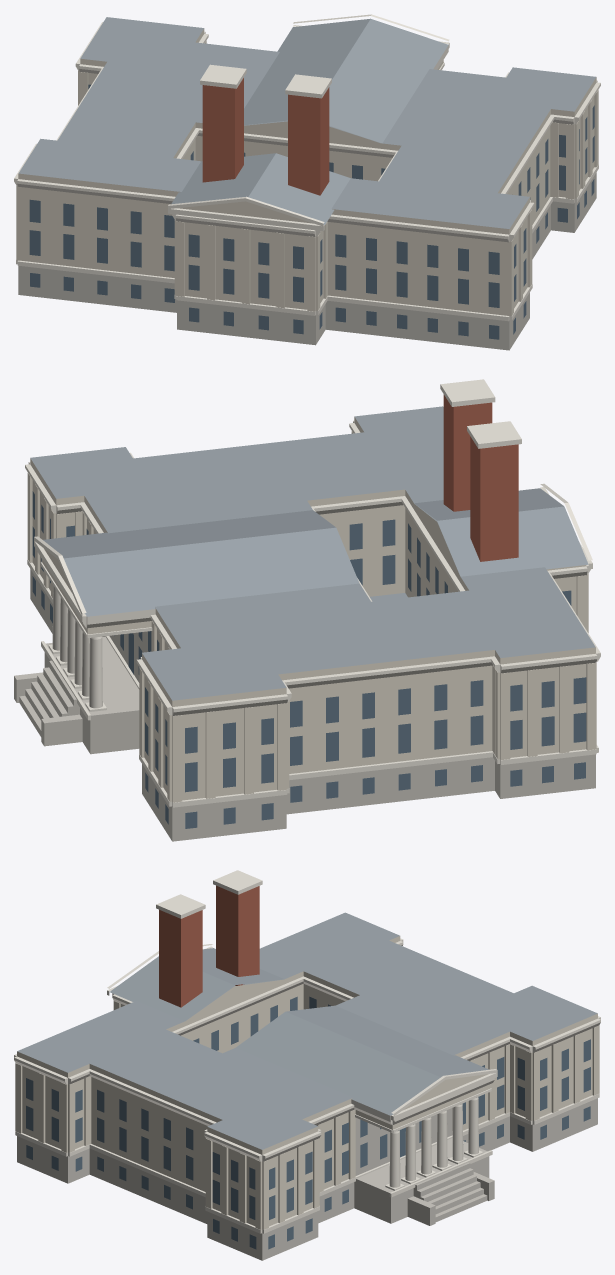
The model's file is detail.glb.
The picture shows the model from 3 angles, top to bottom: view 1: azimuth 30°, elevation 25°; view 2: azimuth 150°, elevation 25°; view 3: azimuth 270°, elevation 25°; orthographic projection. The views are drawn at different scales.
Parts seen in each view (by area): view 1: old-san-francisco-mint; view 2: old-san-francisco-mint; view 3: old-san-francisco-mint.
Boxes of the visible parts, box(x1,y1,x2,y2) form: old-san-francisco-mint: box(14, 14, 600, 350); old-san-francisco-mint: box(14, 379, 600, 841); old-san-francisco-mint: box(14, 870, 600, 1260).
Size of the model in its own units: 81.67 by 33 by 84.43.
